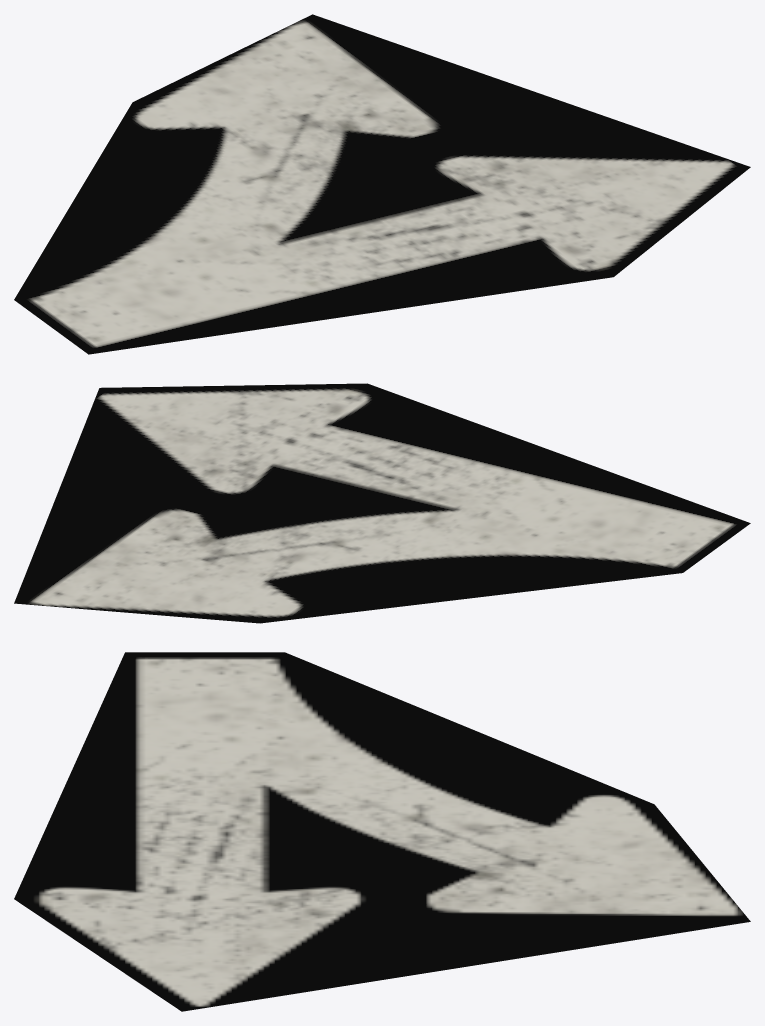
File: DECAL_Ground_Arrow_02.fbx
3 views of the same model, one above another, from view 1: azimuth 30°, elevation 25°; view 2: azimuth 150°, elevation 25°; view 3: azimuth 270°, elevation 25° (orthographic). The views are drawn at different scales.
Visible parts, largest first — view 1: DECAL_Ground_Arrow_02; view 2: DECAL_Ground_Arrow_02; view 3: DECAL_Ground_Arrow_02.
Part boxes in pixels (<box>): DECAL_Ground_Arrow_02: <box>14,14,750,354</box>; DECAL_Ground_Arrow_02: <box>14,383,750,623</box>; DECAL_Ground_Arrow_02: <box>14,652,750,1011</box>.
Bounding box in the file's own units: 147 × 1.11e-05 × 127.
1 material, 1 textured.
